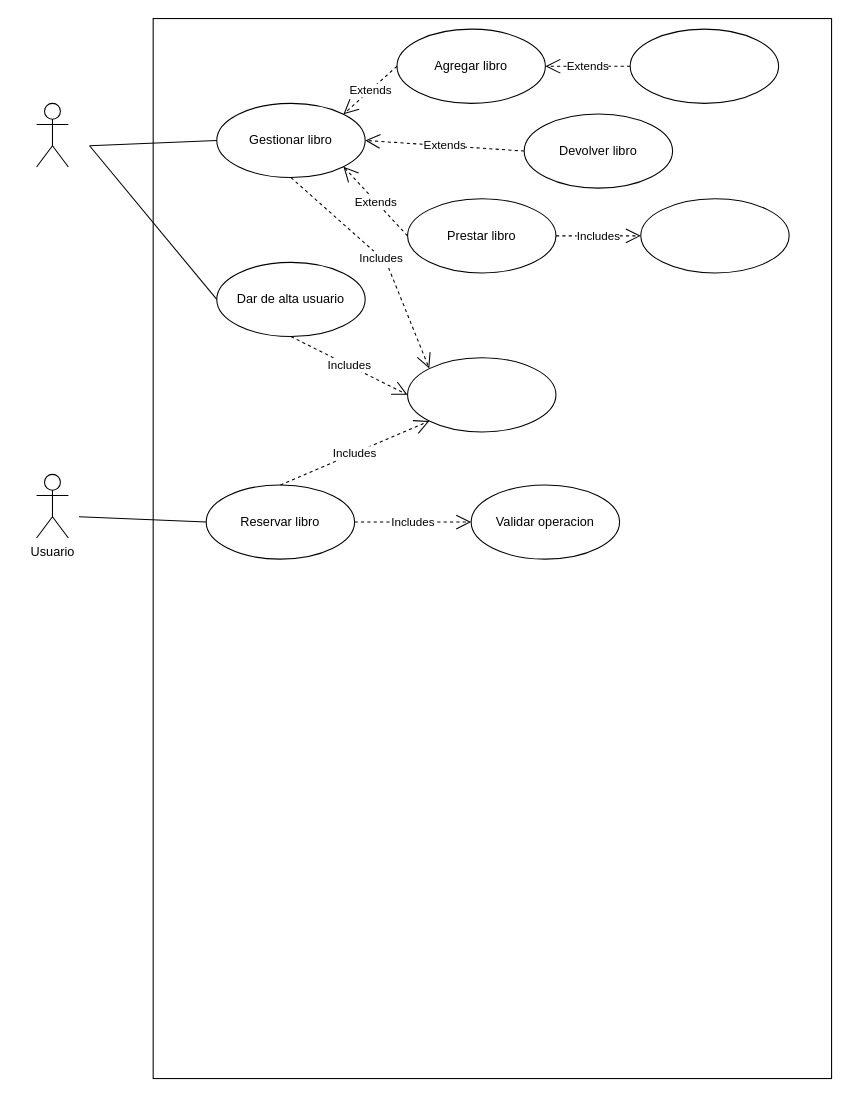
The diagram is 850 pixels wide and 1097 high, and some of its shapes have lost their labels. Each missing label, with the centre of its shape:
Bibliotecario: the point at 52,134
Dar de alta autor: the point at 704,65
Iniciar sesión: the point at 481,394
Notificar disponibilidad: the point at 714,235
